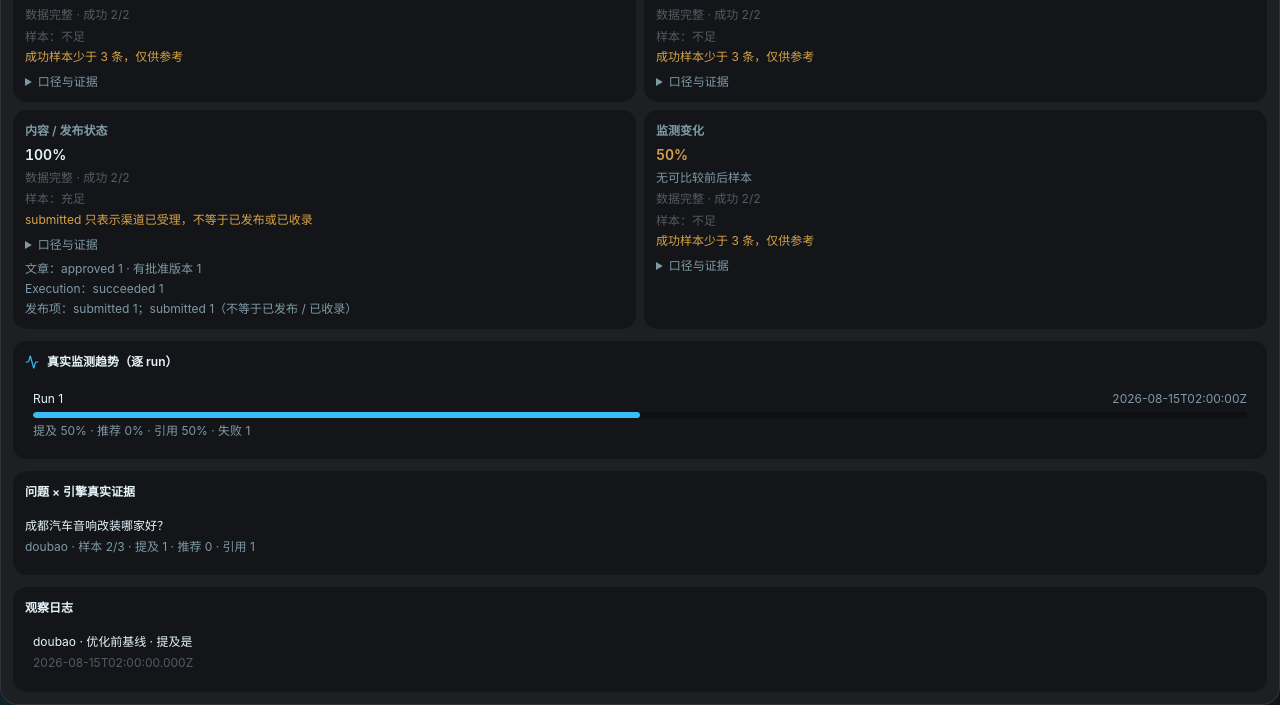
Scenario: XiaojingRealGeoDashboard › shows a bounded monitor run summary and drills one exact unit
The image size is (1280, 705).
(page scrolled)
Click the button "Run 1" at (640,415), box x1=25 y1=382 x2=1255 y2=447
(page scrolled)
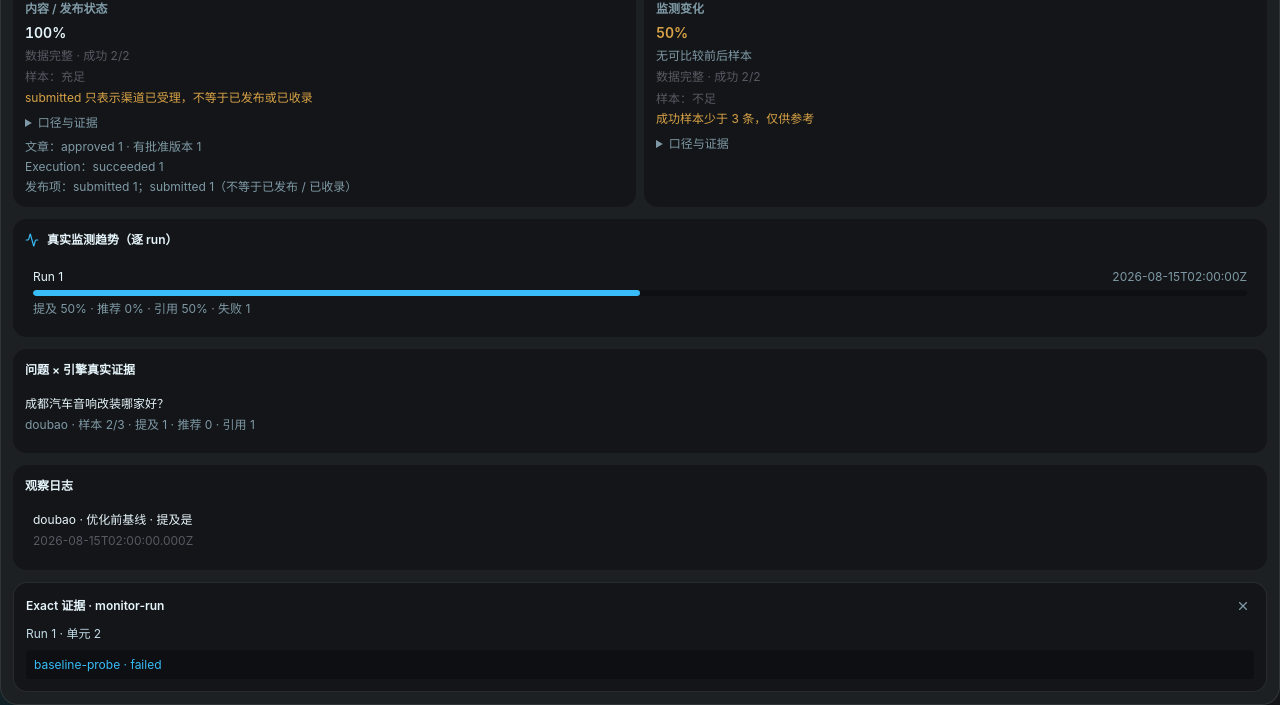
Expected: the text "Run 1 · 单元 2" is shown, x1=26 y1=626 x2=101 y2=640
Click the button "baseline-probe · failed" at (77,664), box x1=26 y1=650 x2=1254 y2=679
(page scrolled)
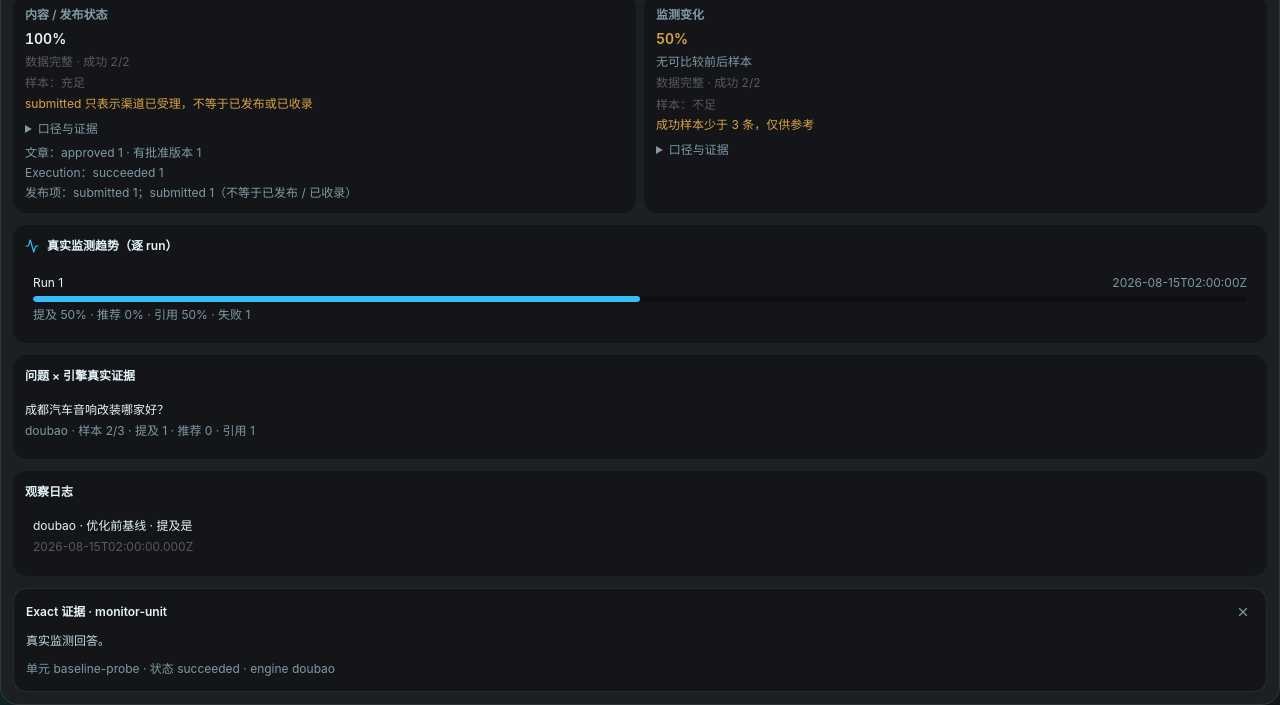
Expected: the text "真实监测回答。" is shown, x1=26 y1=632 x2=110 y2=648
